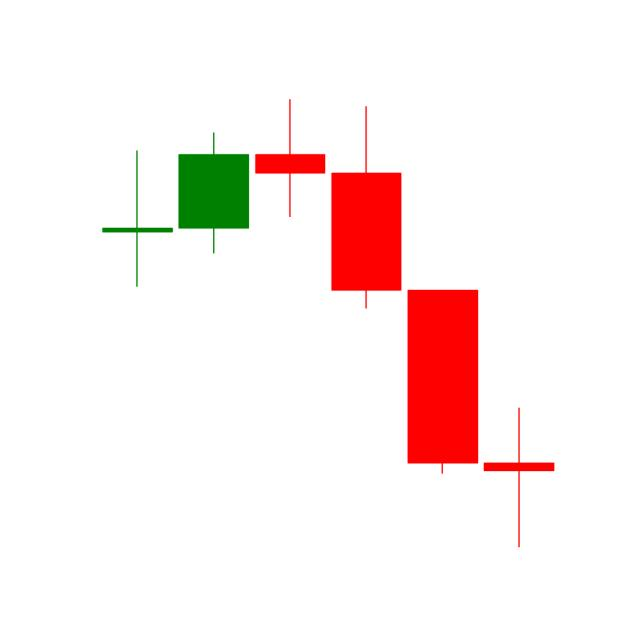Standard Doji: (480, 406, 555, 549), (101, 147, 172, 287), (253, 94, 328, 220)
